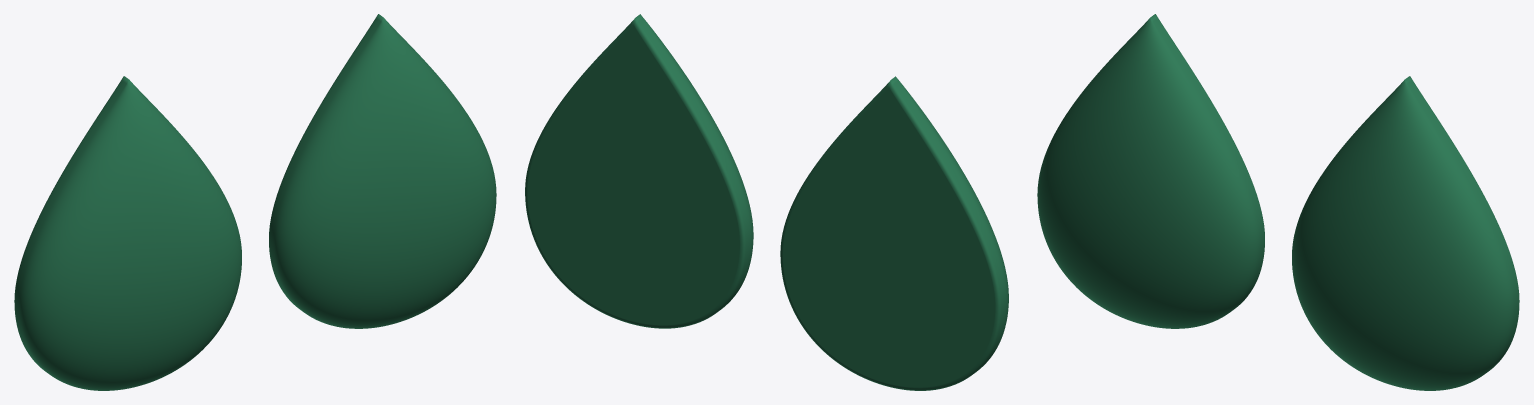
File: matched-pair-v1.glb
3 renders of one model, left to right at view 1: azimuth 30°, elevation 25°; view 2: azimuth 150°, elevation 25°; view 3: azimuth 330°, elevation 25°, orthographic.
Visible parts, largest first — view 1: Teardrop Cabochon 20x15x4mm.001, Teardrop Cabochon 20x15x4mm; view 2: Teardrop Cabochon 20x15x4mm.001, Teardrop Cabochon 20x15x4mm; view 3: Teardrop Cabochon 20x15x4mm, Teardrop Cabochon 20x15x4mm.001.
Part boxes in pixels (left/top/right/bottom): Teardrop Cabochon 20x15x4mm.001: left=269, top=14, right=496, bottom=328; Teardrop Cabochon 20x15x4mm: left=14, top=76, right=241, bottom=390; Teardrop Cabochon 20x15x4mm.001: left=525, top=14, right=753, bottom=328; Teardrop Cabochon 20x15x4mm: left=780, top=76, right=1008, bottom=390; Teardrop Cabochon 20x15x4mm: left=1037, top=14, right=1264, bottom=328; Teardrop Cabochon 20x15x4mm.001: left=1292, top=76, right=1519, bottom=390.
Size of the model in its own units: 0.0324 by 0.02 by 0.00398.
